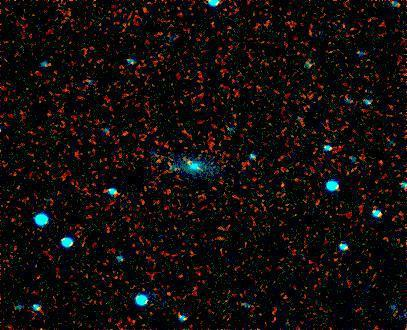star: (176, 146, 206, 176)
